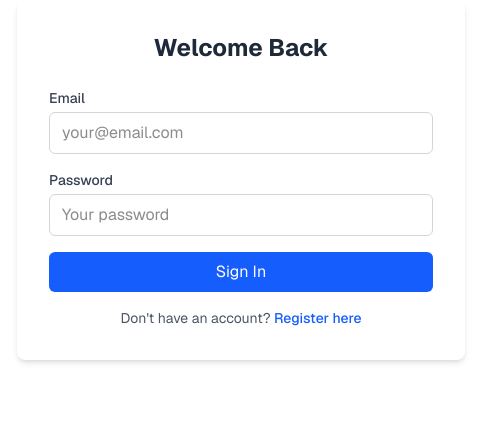
Test: LoginForm › shows the API error as an alert when the credentials are wrong
This screenshot has width=483, height=447.
Step 1. Type "ann@example.com" into the field labelled "Email" → (241, 133), box [49,112,433,154]
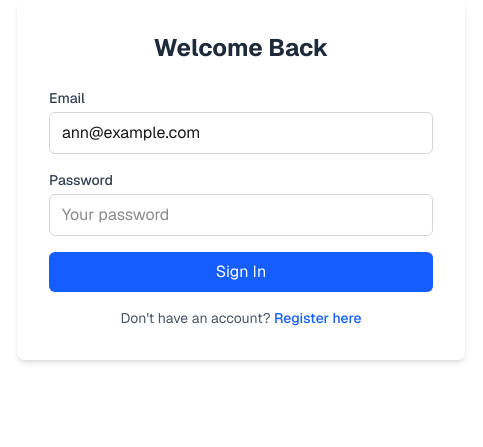
Step 2. Type "wrong password" into the password field labelled "Password" → (241, 215), box [49,194,433,236]
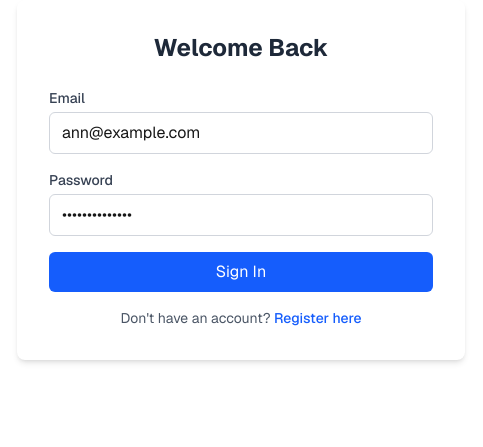
Step 3. Click the button "Sign In" → (241, 272), box [49,252,433,292]
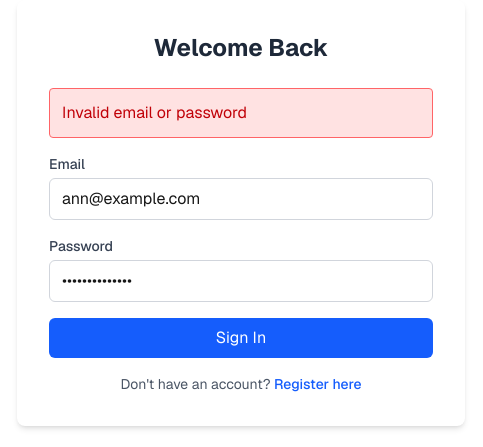
Check: the message reads "Invalid email or password", box [62,102,247,123]
